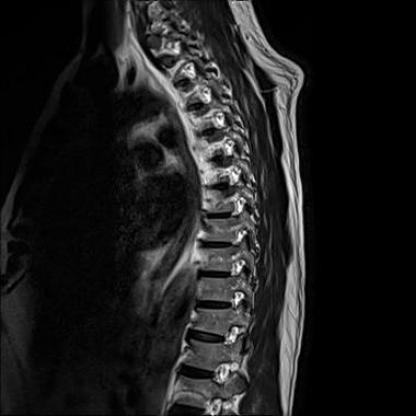Degenerative Disc Diseaserotation: (159, 34, 241, 416)
Osteophytesrotation: (159, 34, 241, 416)
